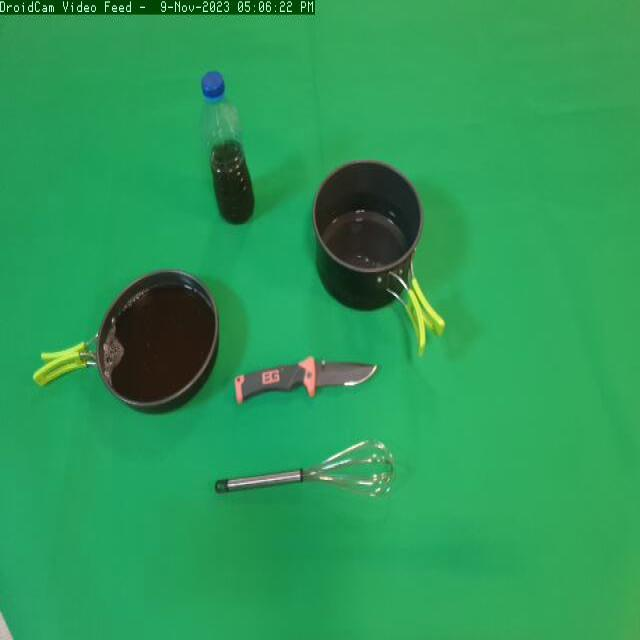fullbottle: (197, 64, 256, 234)
fullpan: (27, 260, 223, 427)
knife: (232, 348, 389, 410)
pot: (310, 156, 454, 356)
whisk: (207, 430, 405, 525)
